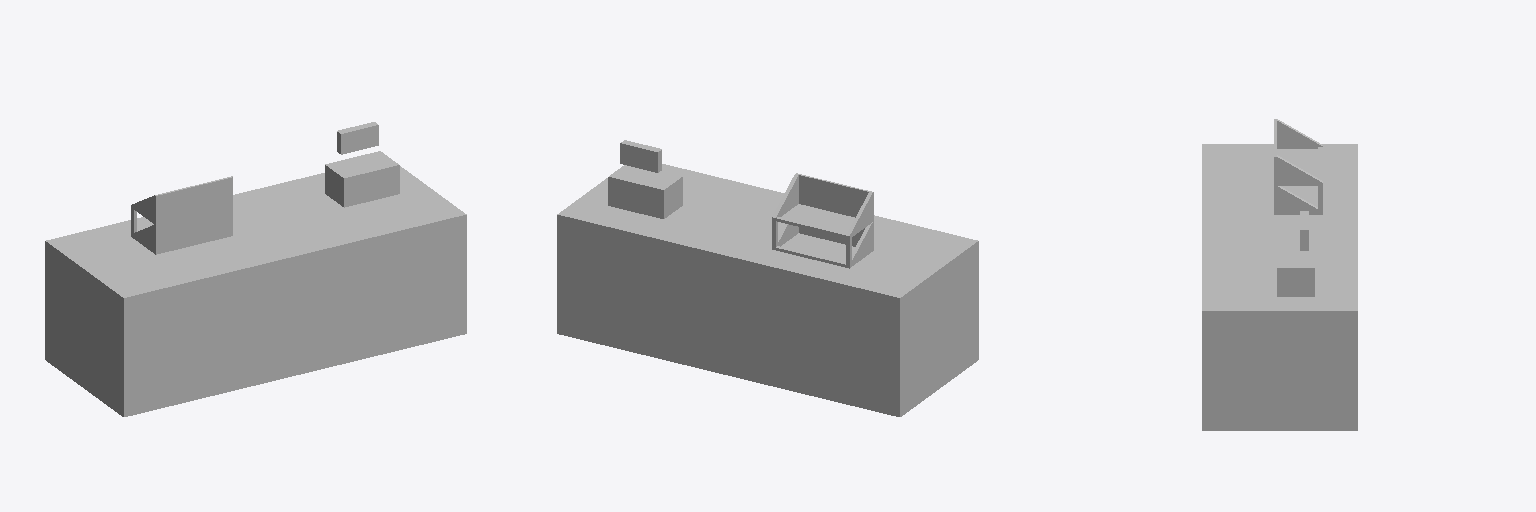
Rendered from cajaregistradora.obj.
The picture shows the model from 3 angles: view 1: azimuth 30°, elevation 25°; view 2: azimuth 150°, elevation 25°; view 3: azimuth 270°, elevation 25°; orthographic projection.
Parts seen in each view (by area): view 1: polySurface865; view 2: polySurface865; view 3: polySurface865.
Boxes of the visible parts, box(x1,y1,x2,y2) form: polySurface865: box(45, 122, 466, 416); polySurface865: box(557, 140, 978, 416); polySurface865: box(1202, 119, 1357, 430).
Size of the model in its own units: 10.1 by 5.13 by 4.